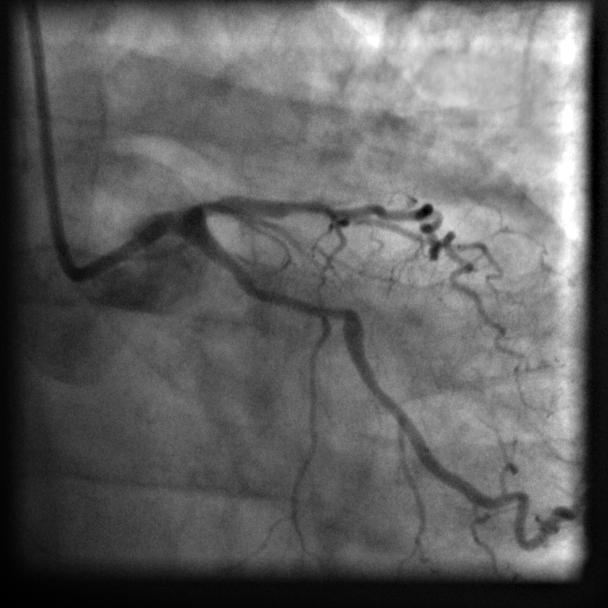Stenosis: (254, 277, 342, 332)
